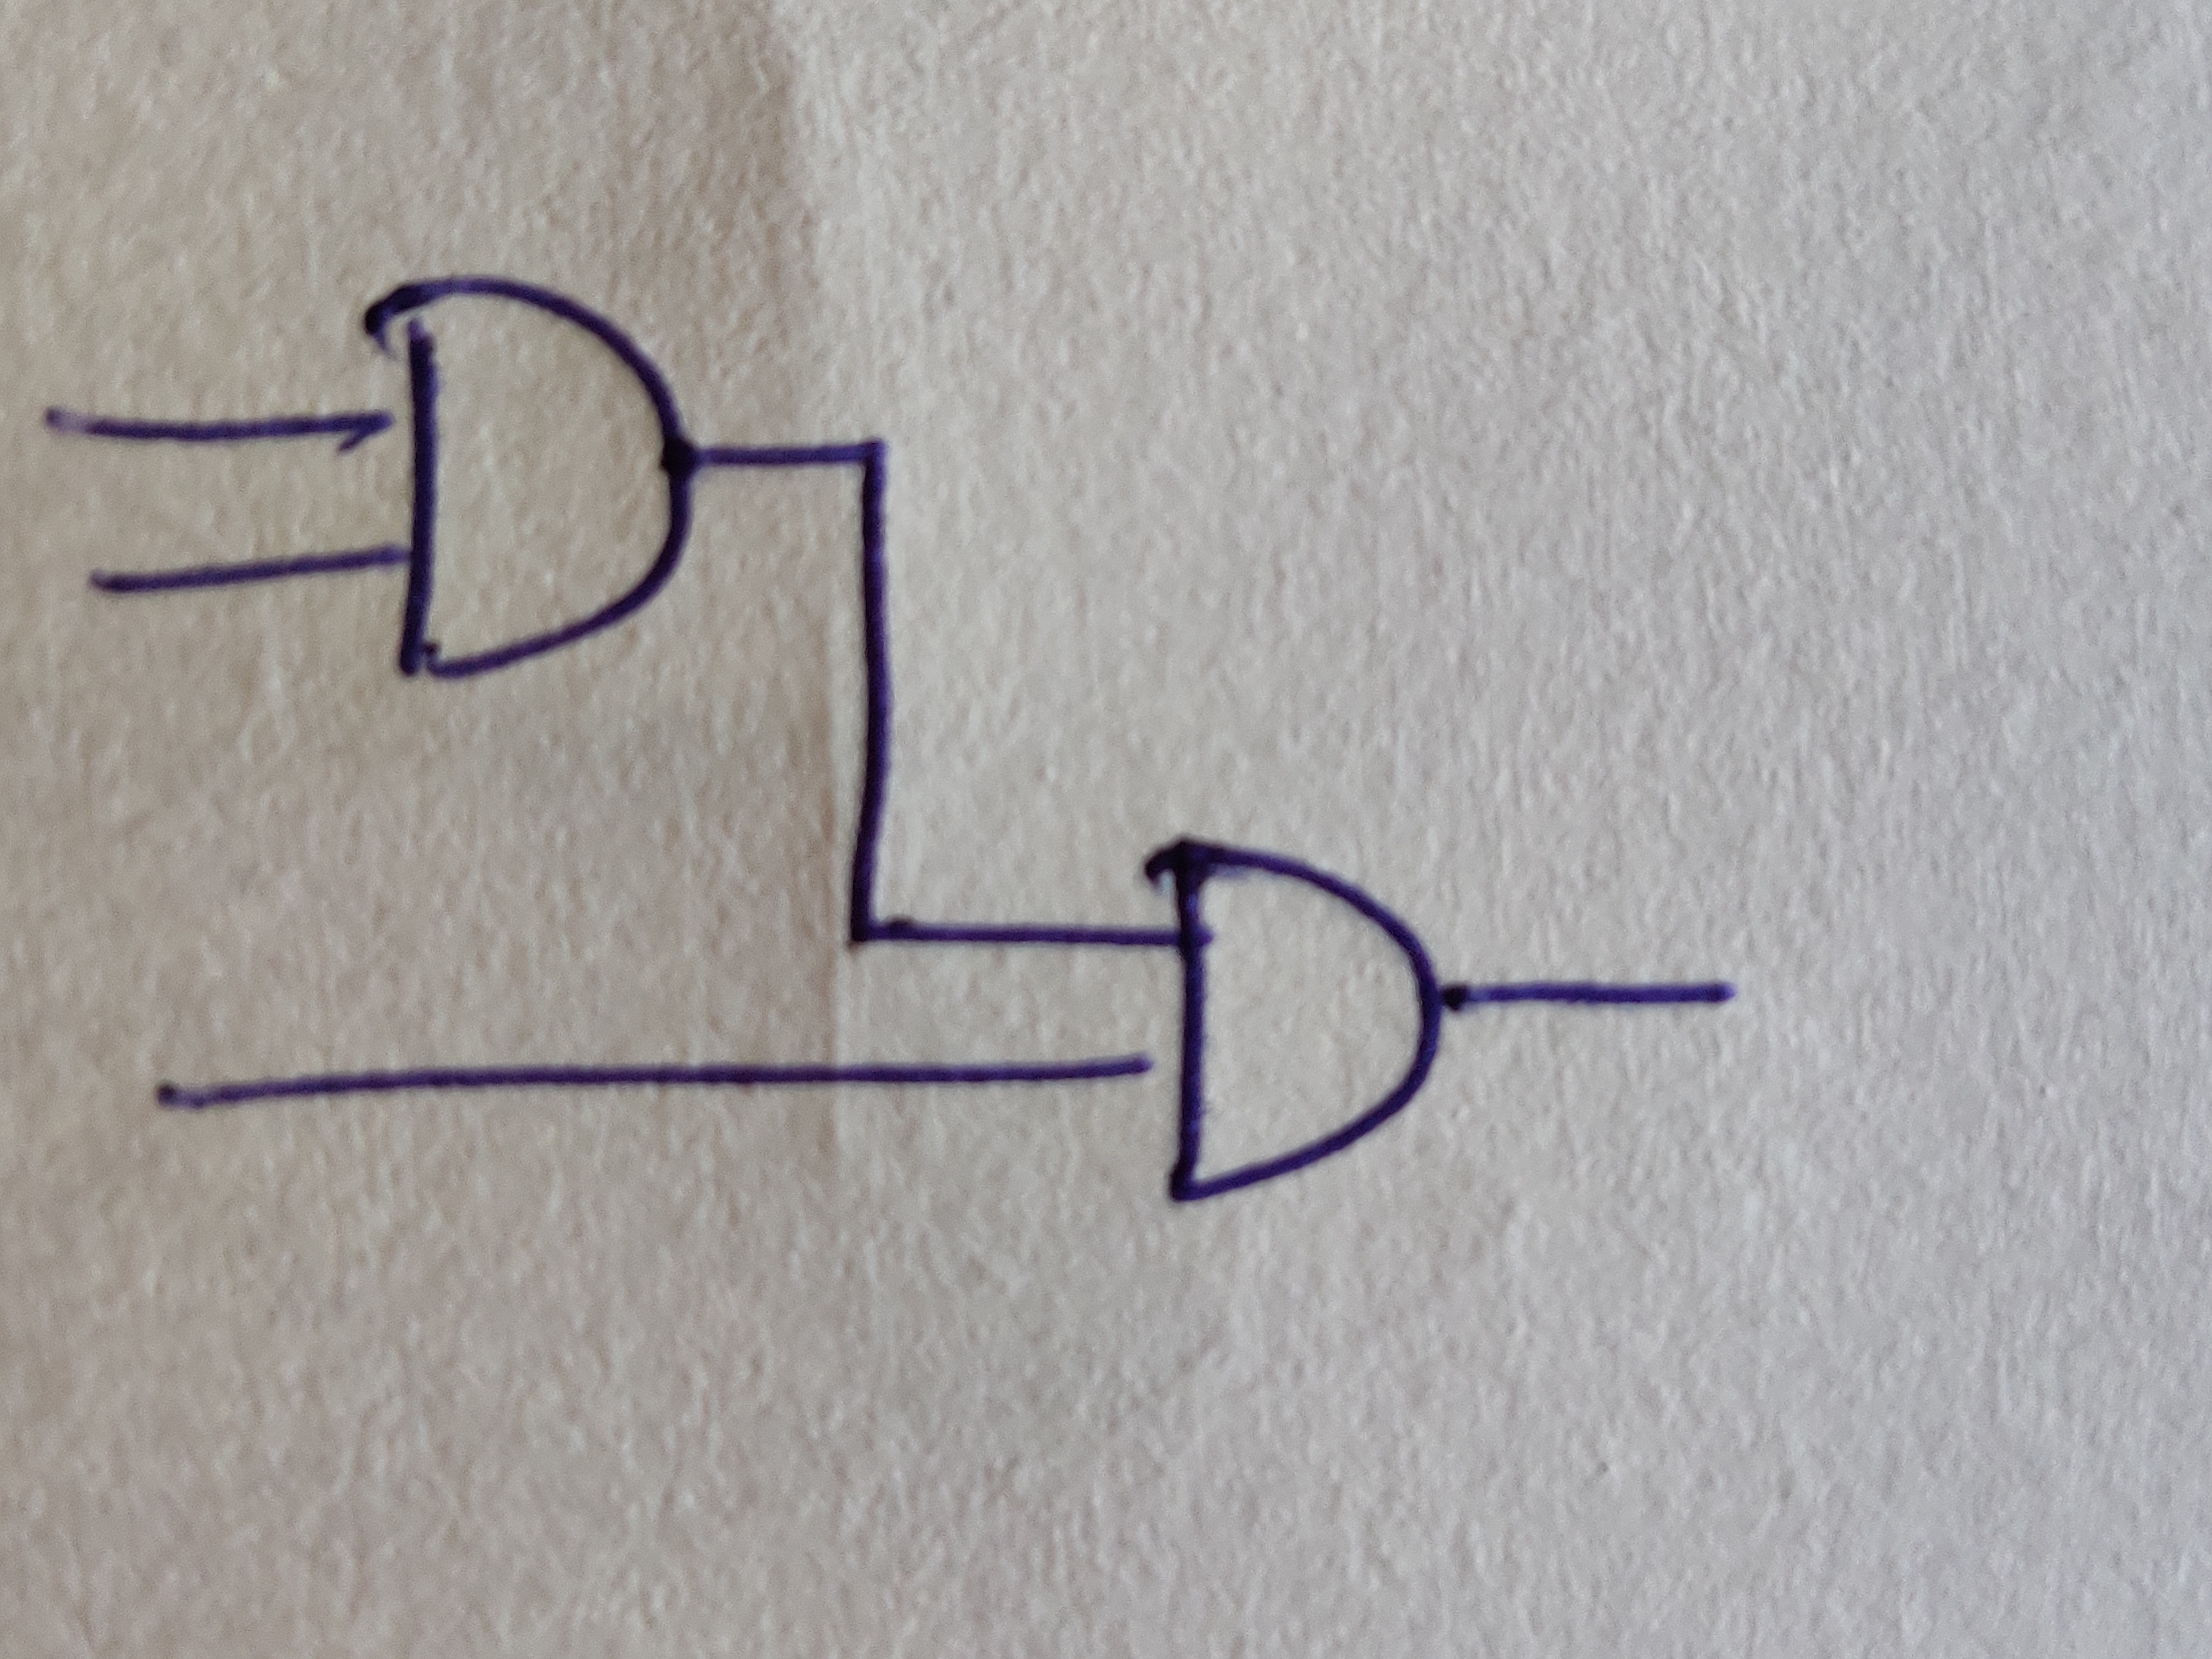and: (366, 275, 693, 680), (1146, 836, 1442, 1204)
